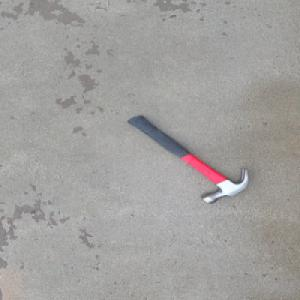Hammer: (125, 114, 250, 204)
